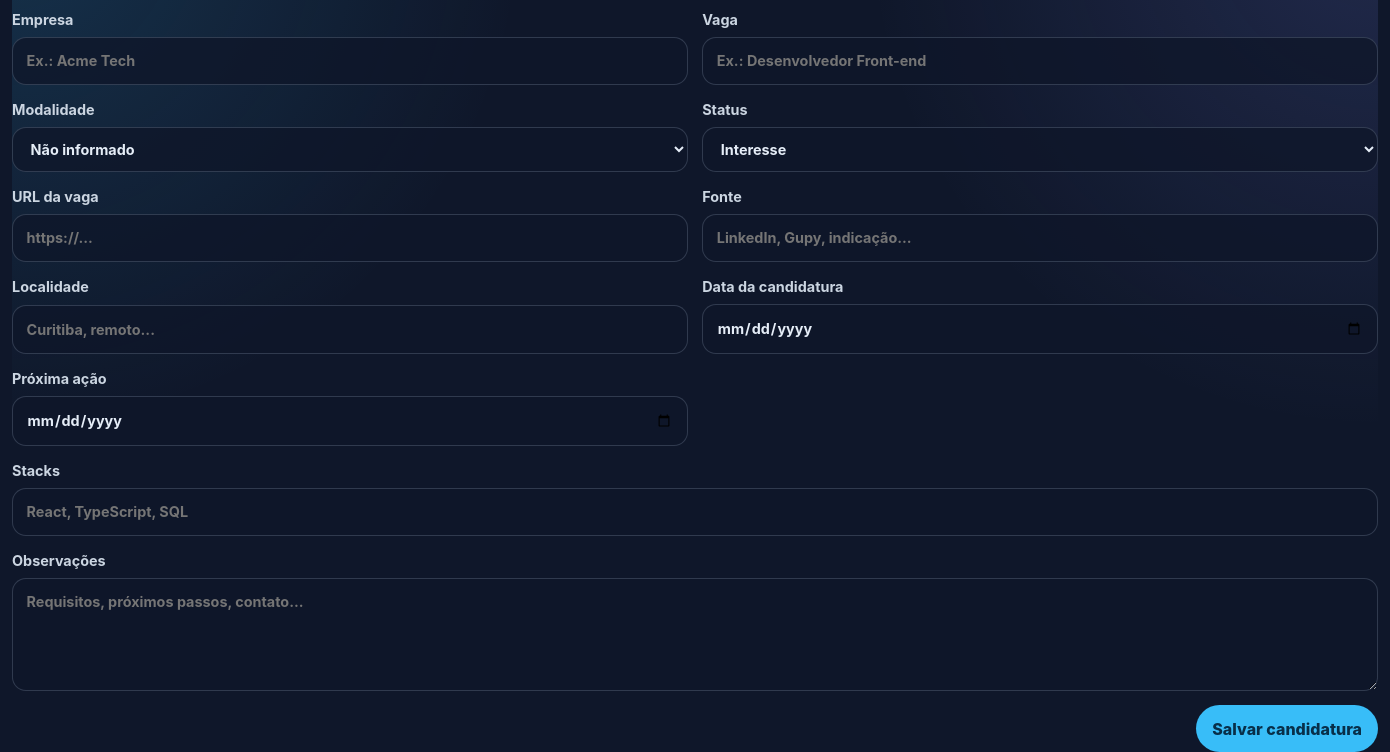
Test: ApplicationForm › validates required fields before submitting
(page scrolled)
Click the button "Salvar candidatura" at (1287, 729), box [1196,705,1378,751]
(page scrolled)
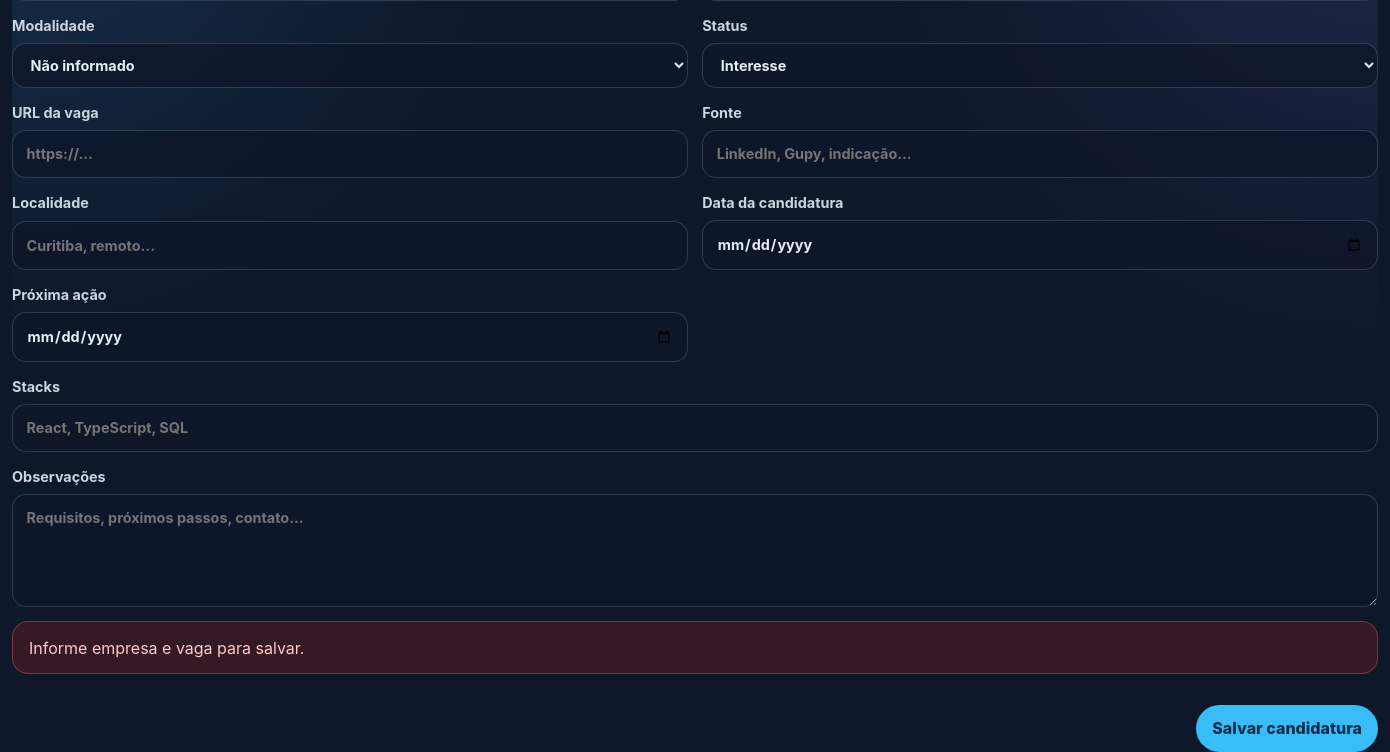
Expected: the text "Informe empresa e vaga para salvar." is shown, [12,621,1378,674]
